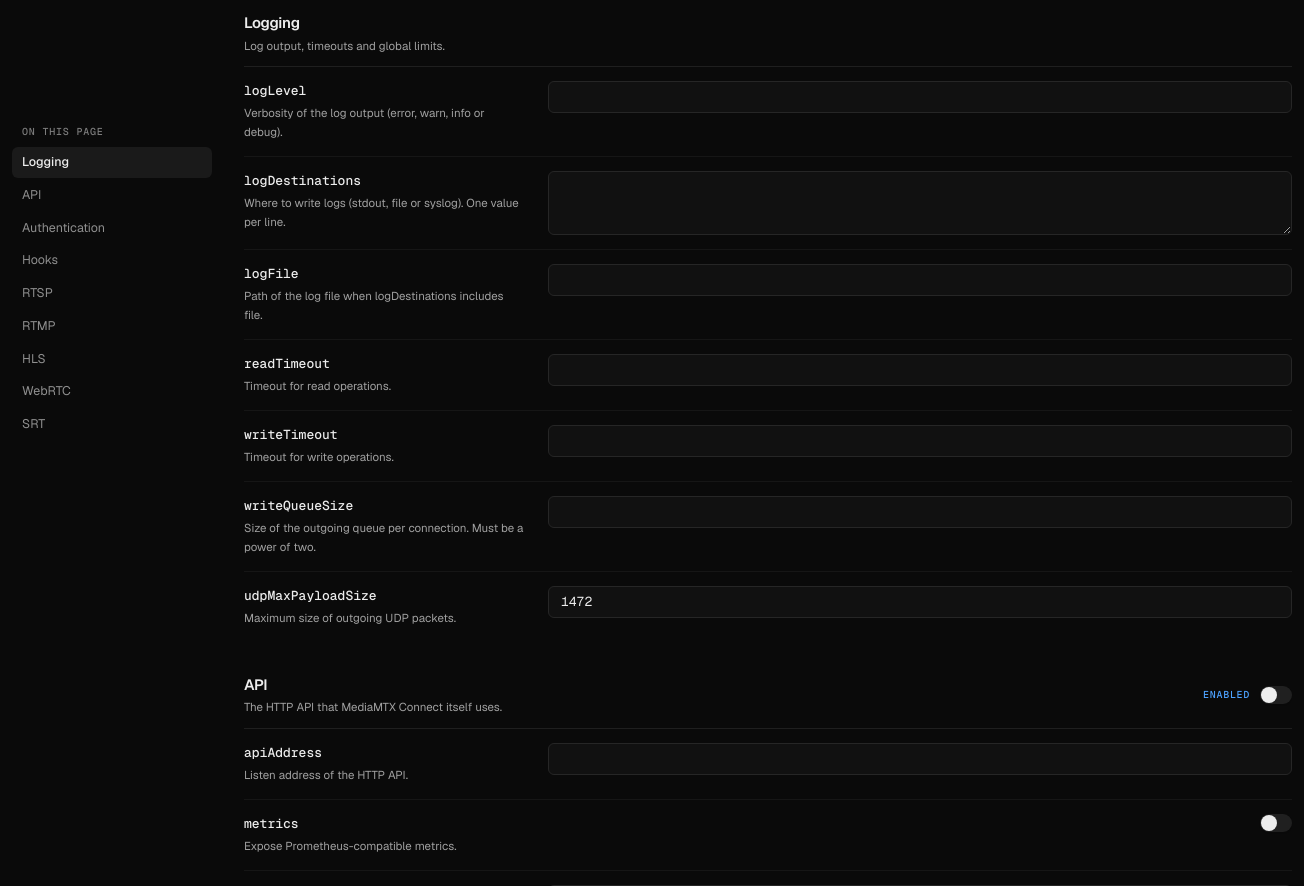
Test: cleared global fields › refuses a number that is not positive
Replace the text in the number field named "udpMaxPayloadSize" with "0" at [920, 602], box [548,586,1292,618]
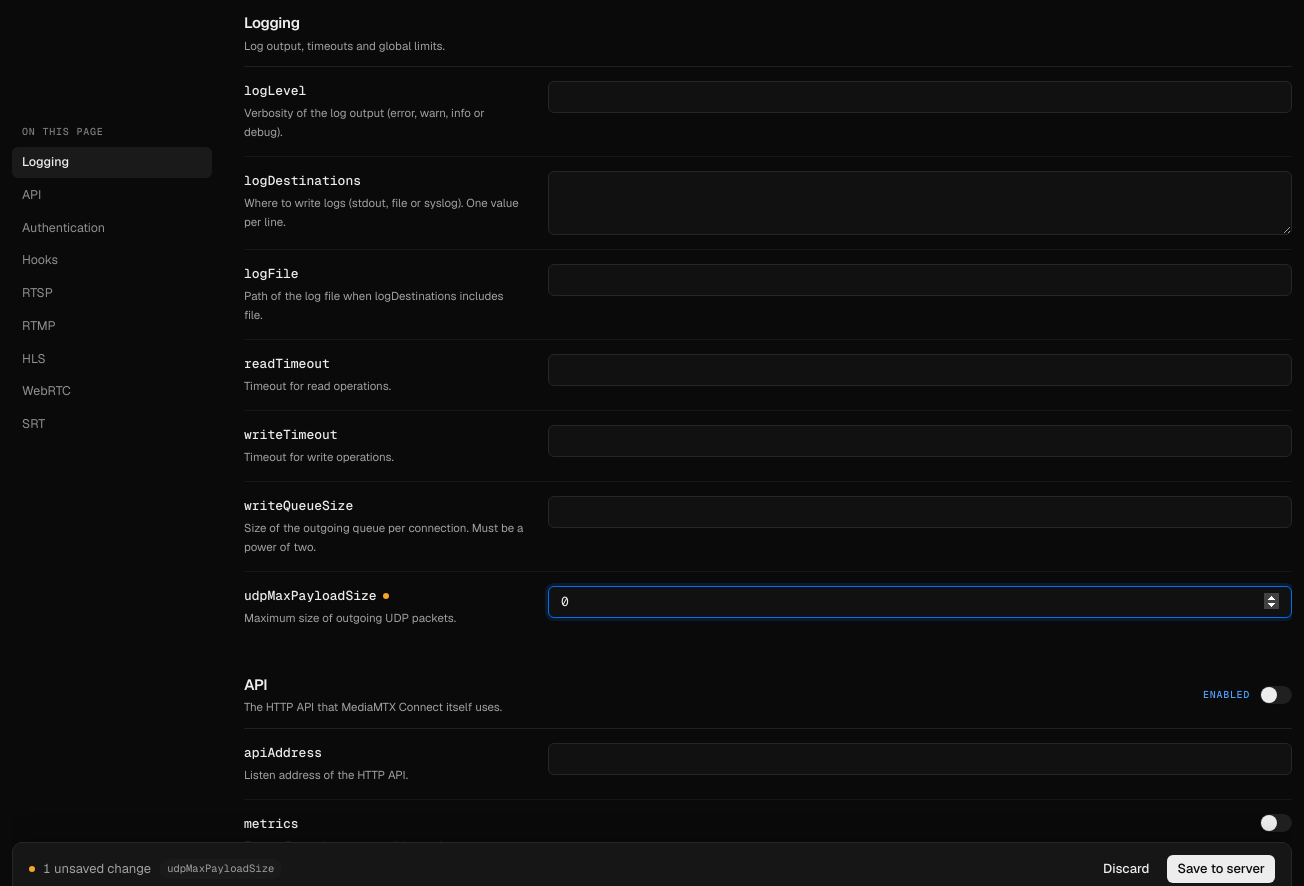
Press Tab
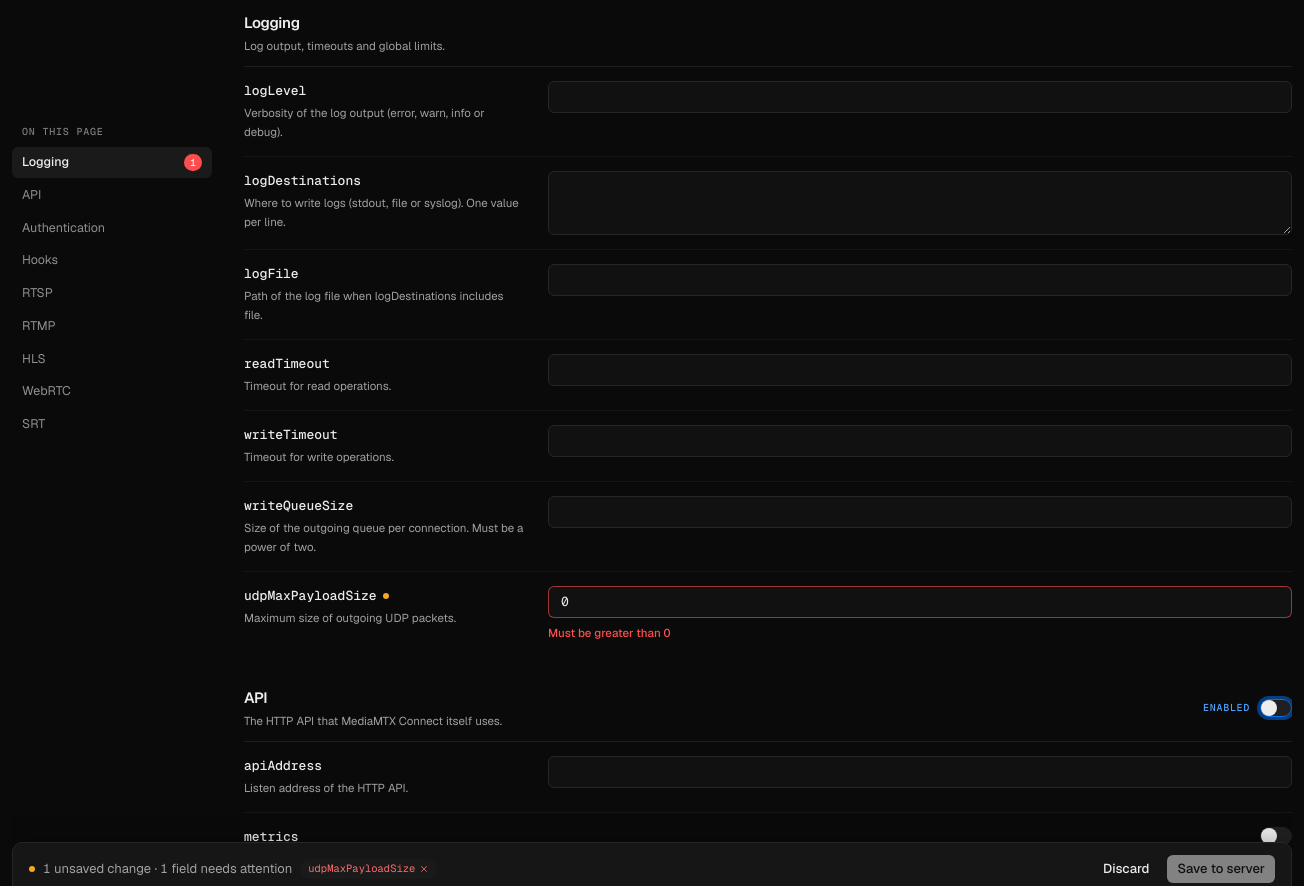
Expected: the text "Must be greater than 0" is shown, [548,625,671,640]
Expected: the button "Save to server" is disabled, [1168,855,1275,883]
